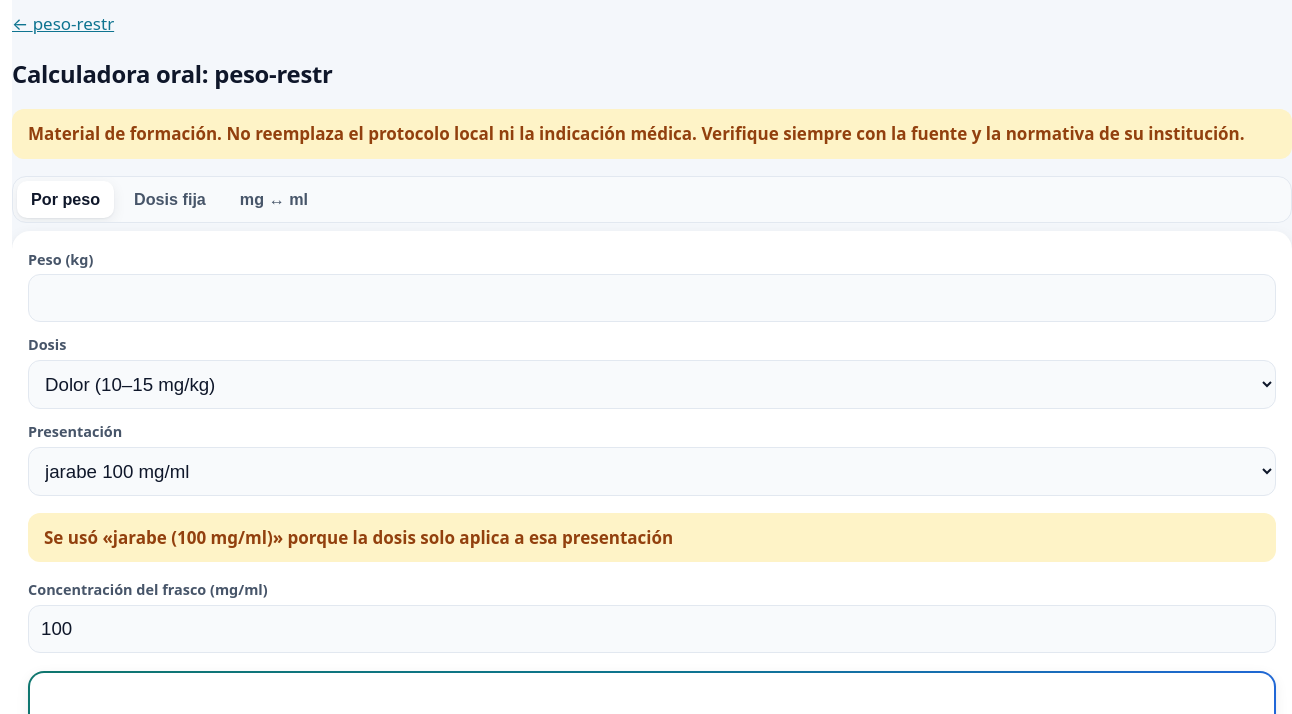
Scenario: CalculadoraOral › M-3: por peso también aplica la restricción de presentaciones
In the field labelled "Peso (kg)": (652, 298) [28,274,1276,322], type "10"
(page scrolled)
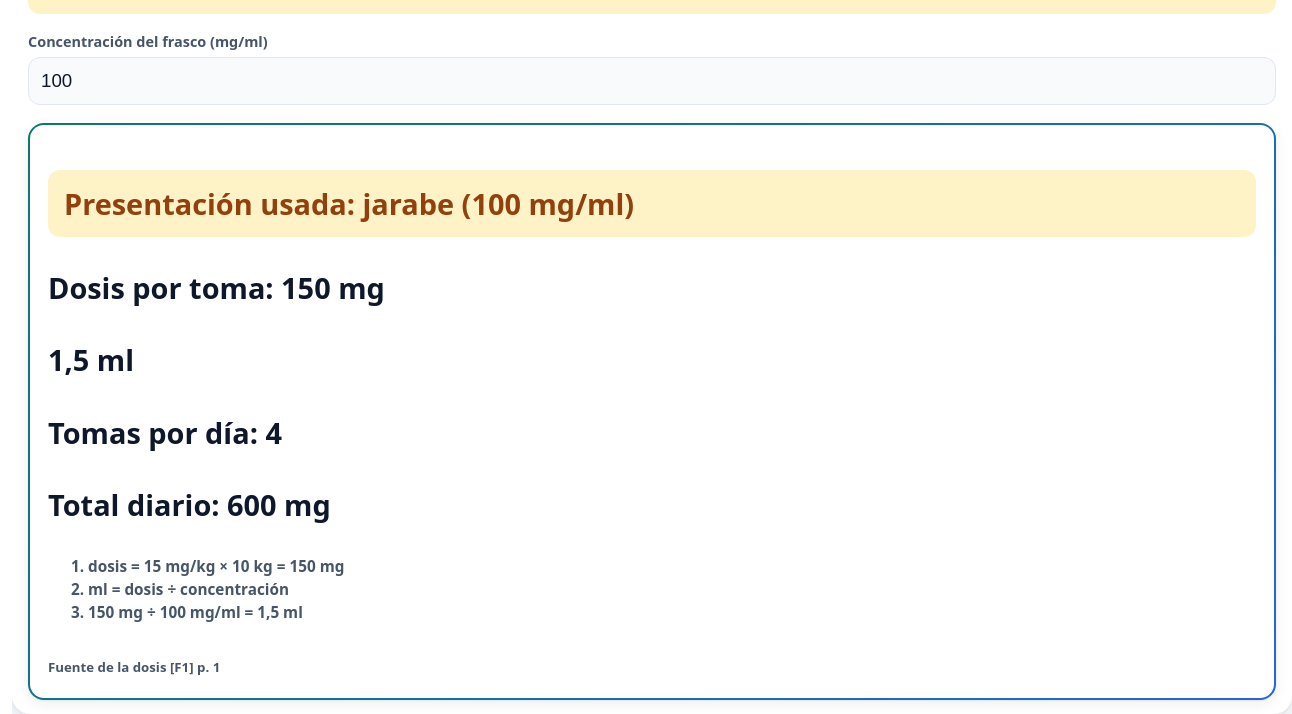
Expected: the element with test id "resultado" shows "1,5 ml", [88,602,303,622]
